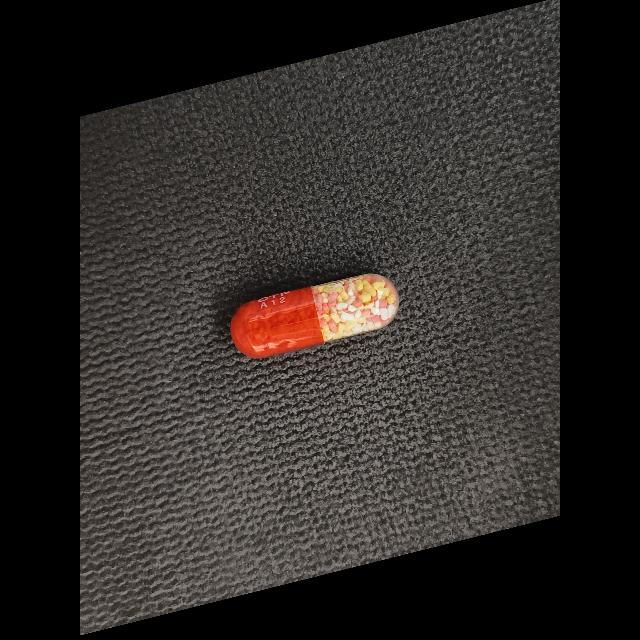Intact Capsule: (230, 273, 399, 358)
